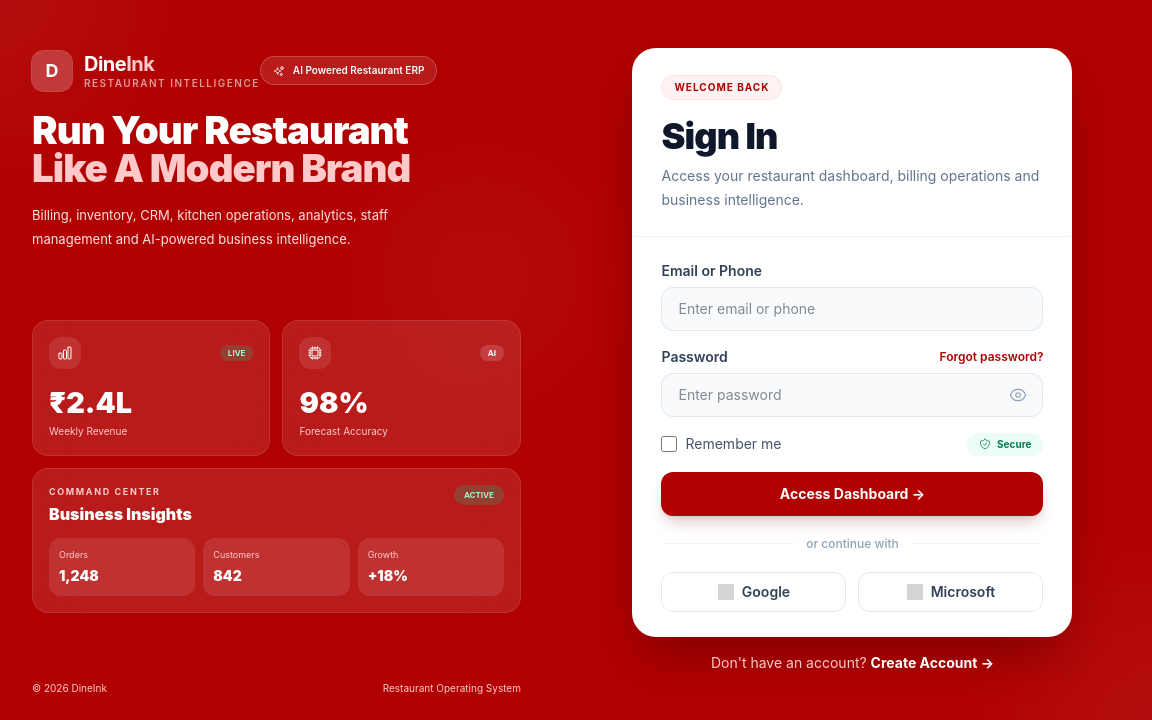
Test case: Login page › on a locked account, surfaces the lockout message with a way to reset
Type "owner@test.com" into the field with placeholder "Enter email or phone".
click(852, 308); type("owner@test.com")  # box [662,286,1044,330]
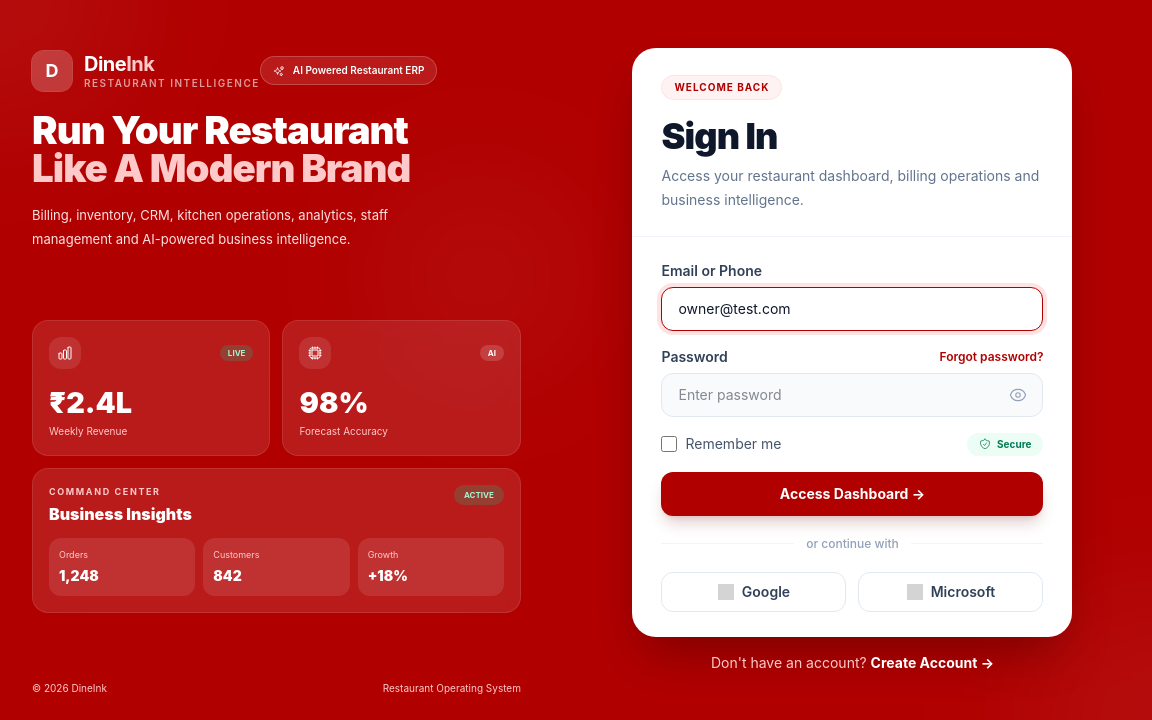
Type "wrong-password" into the password field with placeholder "Enter password".
click(852, 394); type("wrong-password")  # box [662,372,1044,416]
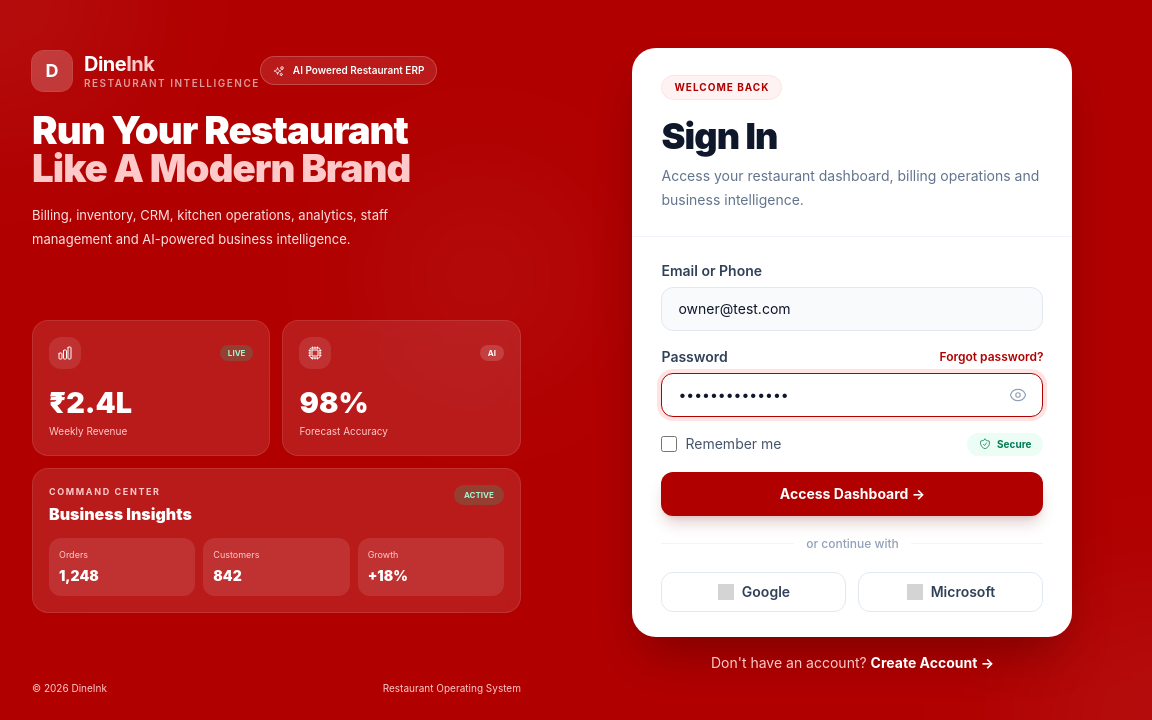
Click the button "Access Dashboard →".
click(852, 494)  # box [662,472,1044,516]
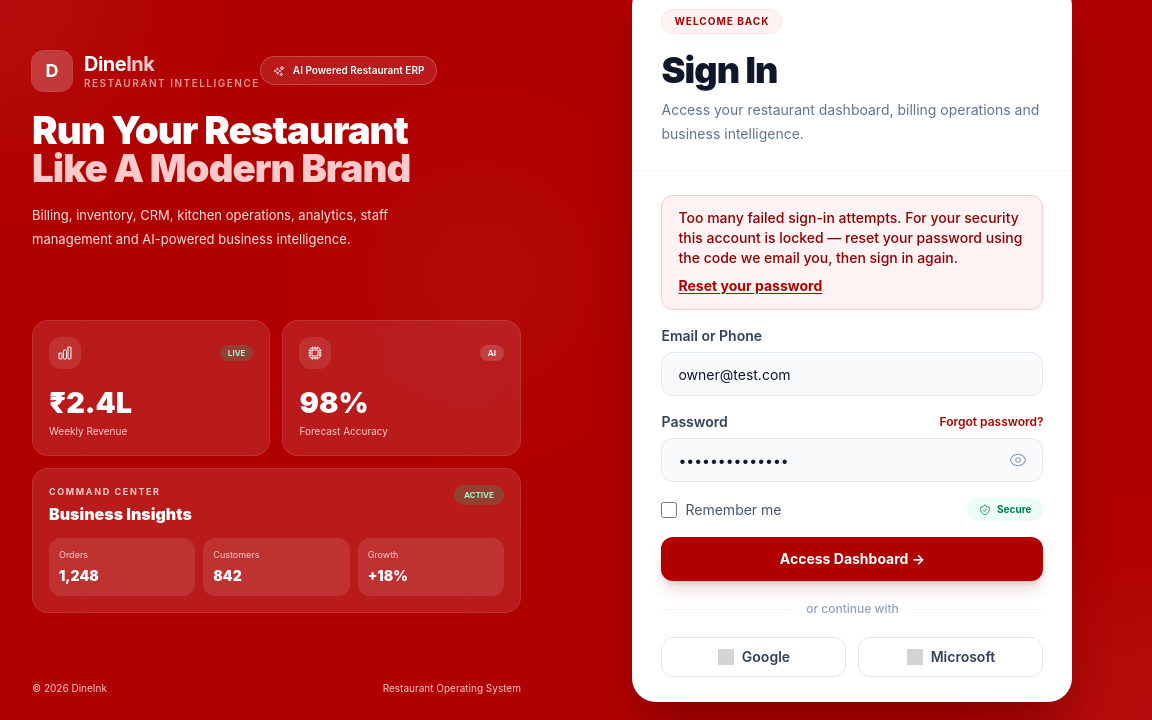
Result: the message shows "this account is locked" at [678,209,1022,266]
